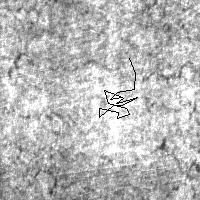crazing: (2, 52, 196, 137), (5, 139, 200, 199), (99, 58, 137, 118)
